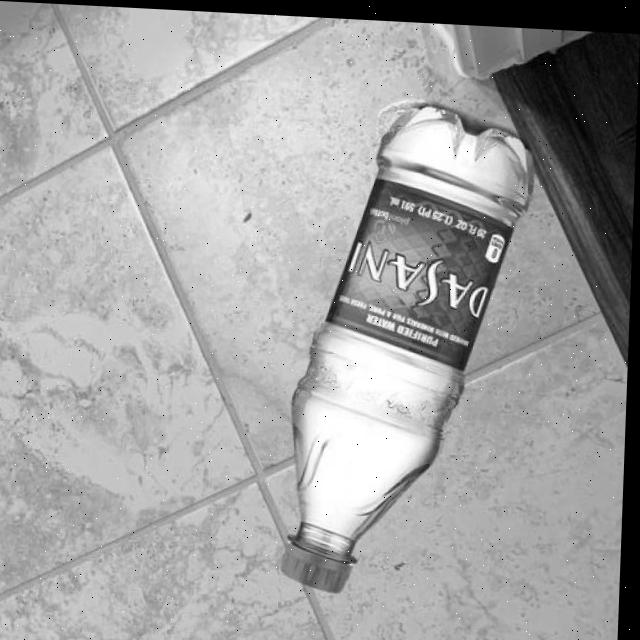bottle: (282, 90, 539, 599)
